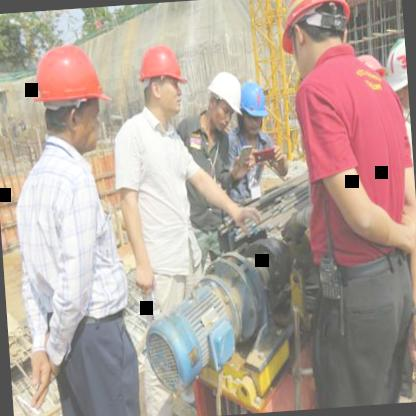helmet: (27, 43, 113, 154), (276, 0, 355, 83), (134, 41, 193, 126), (202, 70, 244, 134), (382, 32, 410, 112), (236, 82, 271, 138)
